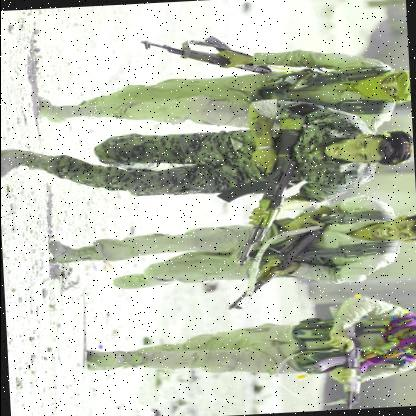rifle: (215, 114, 321, 271), (222, 224, 328, 309), (136, 25, 282, 84), (297, 311, 368, 411)
